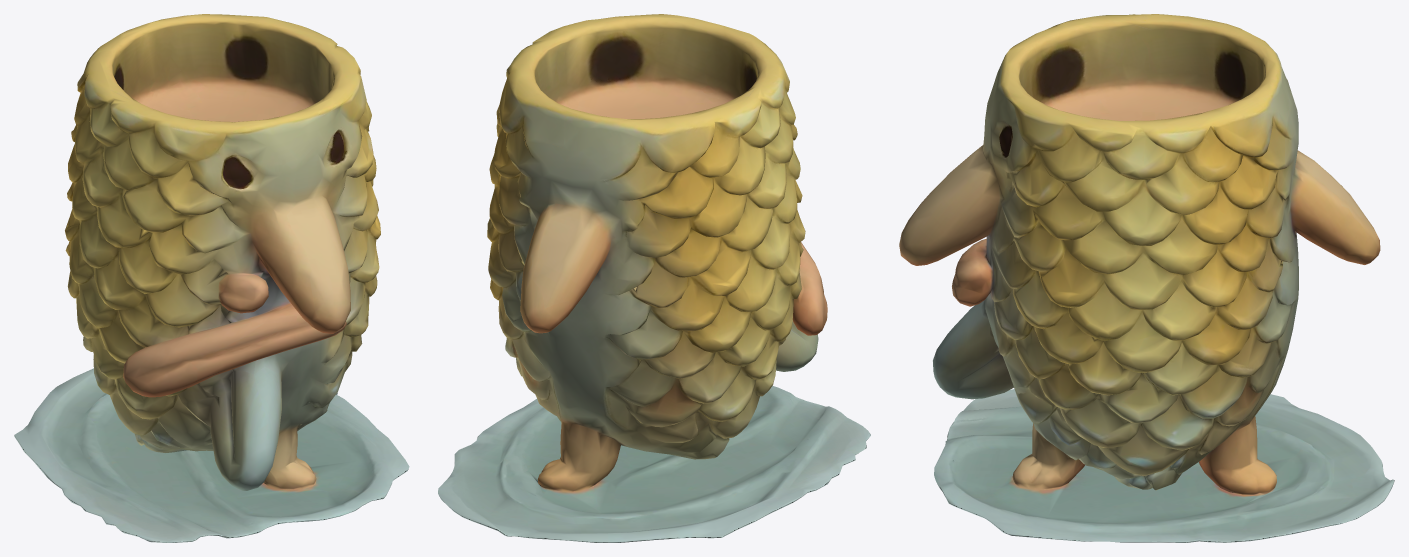
Rendered from body.glb.
3 views of the same model, side by side, from view 1: azimuth 30°, elevation 25°; view 2: azimuth 150°, elevation 25°; view 3: azimuth 270°, elevation 25° (orthographic). The views are drawn at different scales.
Visible parts, largest first — view 1: tripo_node_4571e1b3-7b56-4244-9a10-64ab3fbefa8f; view 2: tripo_node_4571e1b3-7b56-4244-9a10-64ab3fbefa8f; view 3: tripo_node_4571e1b3-7b56-4244-9a10-64ab3fbefa8f.
Part boxes in pixels (bbox=[...]): tripo_node_4571e1b3-7b56-4244-9a10-64ab3fbefa8f: bbox=[14, 14, 409, 542]; tripo_node_4571e1b3-7b56-4244-9a10-64ab3fbefa8f: bbox=[438, 14, 870, 542]; tripo_node_4571e1b3-7b56-4244-9a10-64ab3fbefa8f: bbox=[899, 14, 1394, 542].
Bounding box in the file's own units: 0.7541 × 0.9033 × 1.
Materials: 1 (1 with a texture image).
